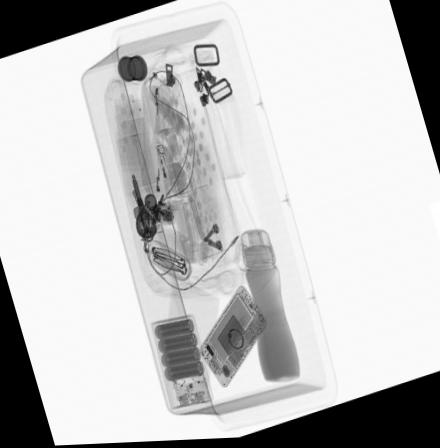Lighter: (155, 144, 178, 214)
